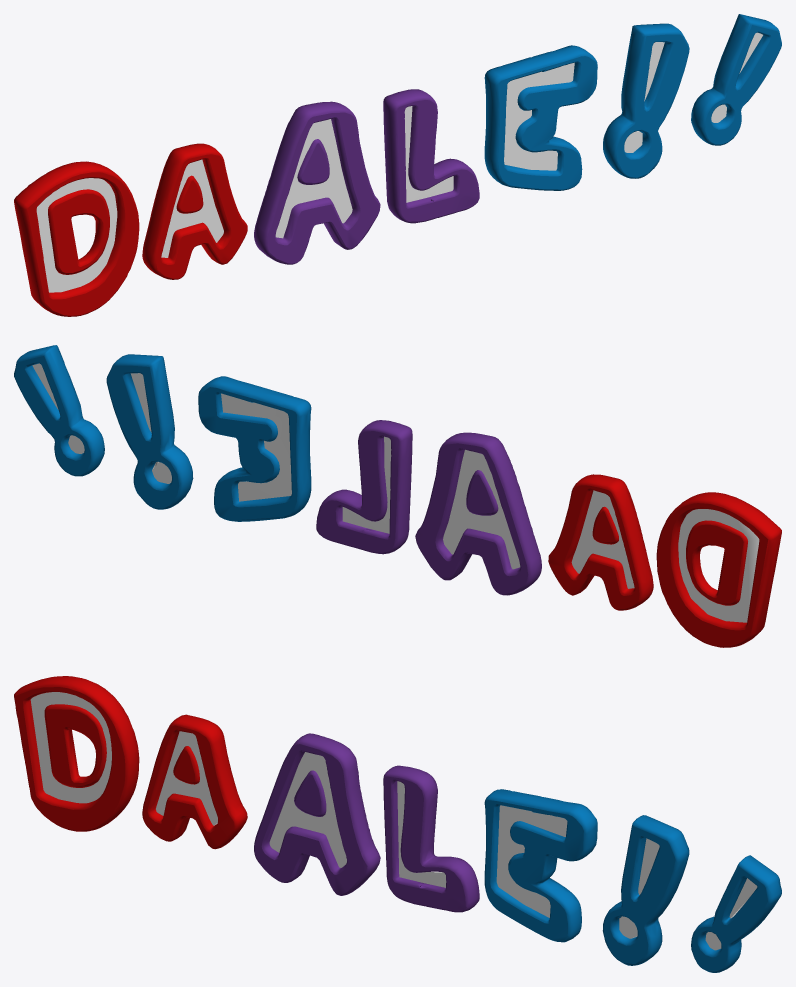
The model's file is daale.glb.
3 renders of one model, top to bottom at view 1: azimuth 30°, elevation 25°; view 2: azimuth 150°, elevation 25°; view 3: azimuth 330°, elevation 25°, orthographic.
Parts seen in each view (by area): view 1: D, E, A2; view 2: D, E, A2; view 3: D, E, A2.
Part boxes in pixels (x1,y1,x2,y2): D: (14, 32, 762, 316); E: (484, 14, 781, 190); A2: (254, 89, 479, 264); D: (32, 363, 781, 647); E: (14, 345, 311, 521); A2: (316, 420, 541, 595); D: (14, 676, 757, 950); E: (484, 789, 781, 972); A2: (254, 733, 479, 912).
Bounding box in the file's own units: 10995 × 2051 × 327.
